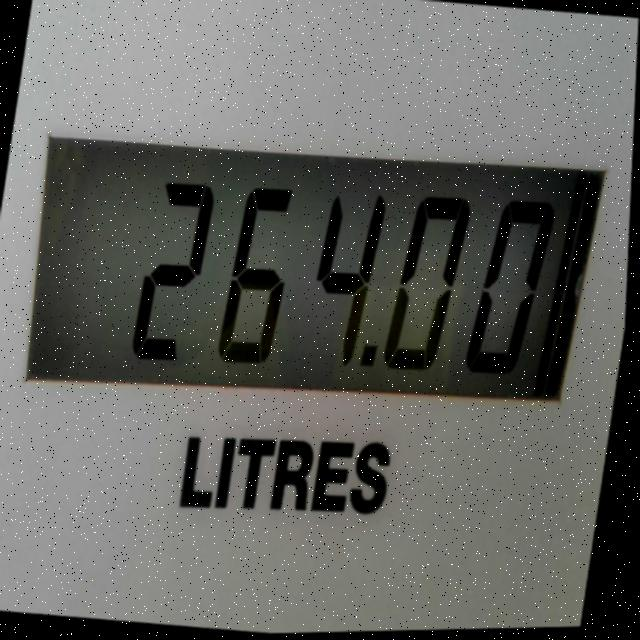.: (355, 329, 389, 384)
0: (464, 192, 574, 391), (378, 179, 482, 389)
2: (129, 172, 227, 374)
4: (295, 179, 395, 387)
6: (208, 171, 312, 376)
